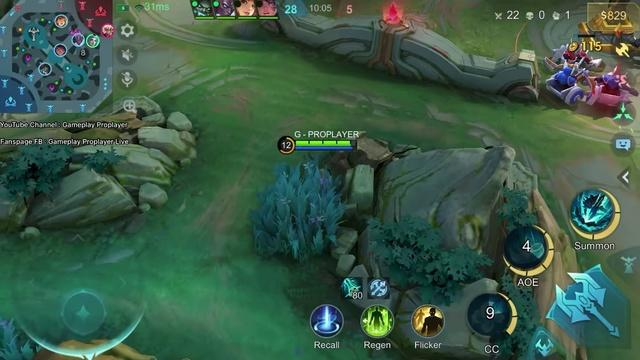bush: (249, 162, 345, 264), (0, 317, 38, 359)
hp_self: (295, 141, 352, 146)
minion_ally: (547, 64, 595, 103)
